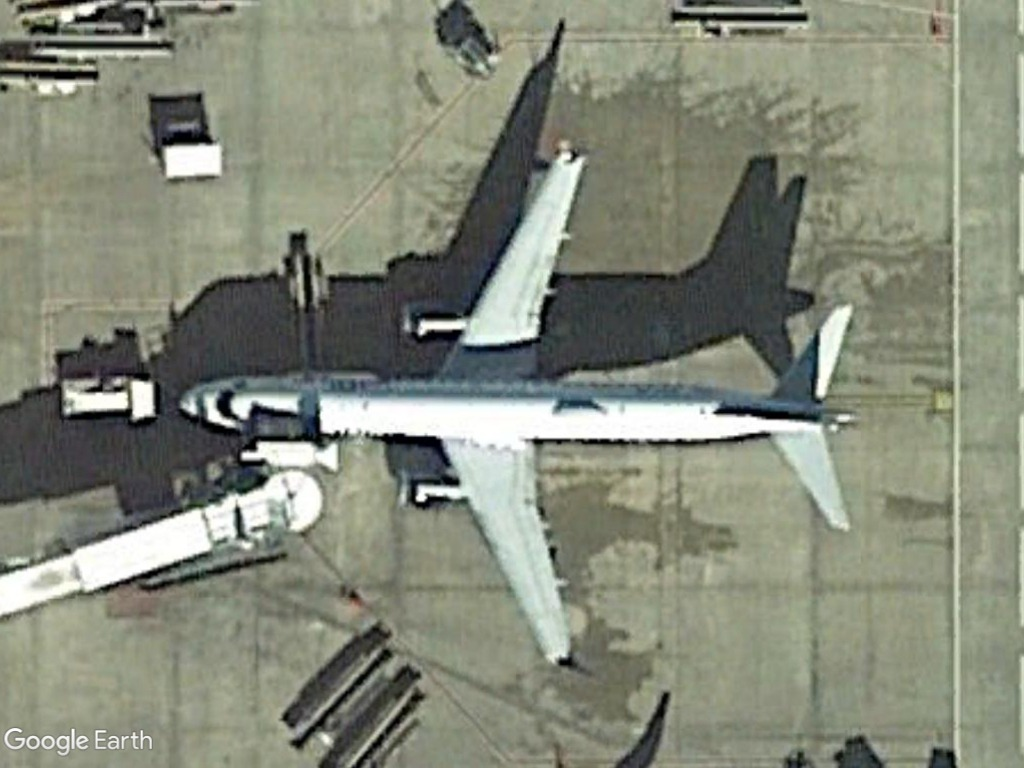airliner: (175, 139, 865, 679)
